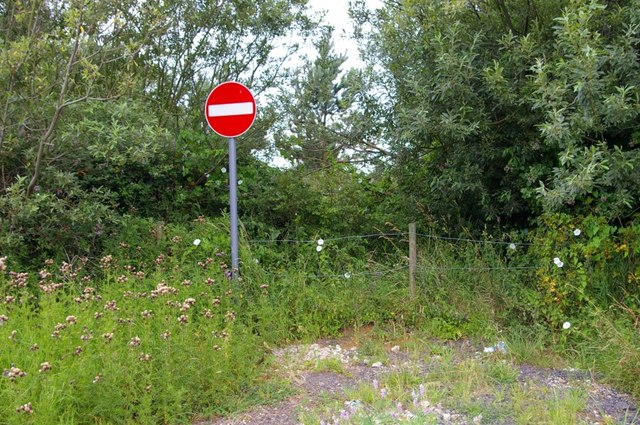No_entry: (204, 80, 257, 137)
